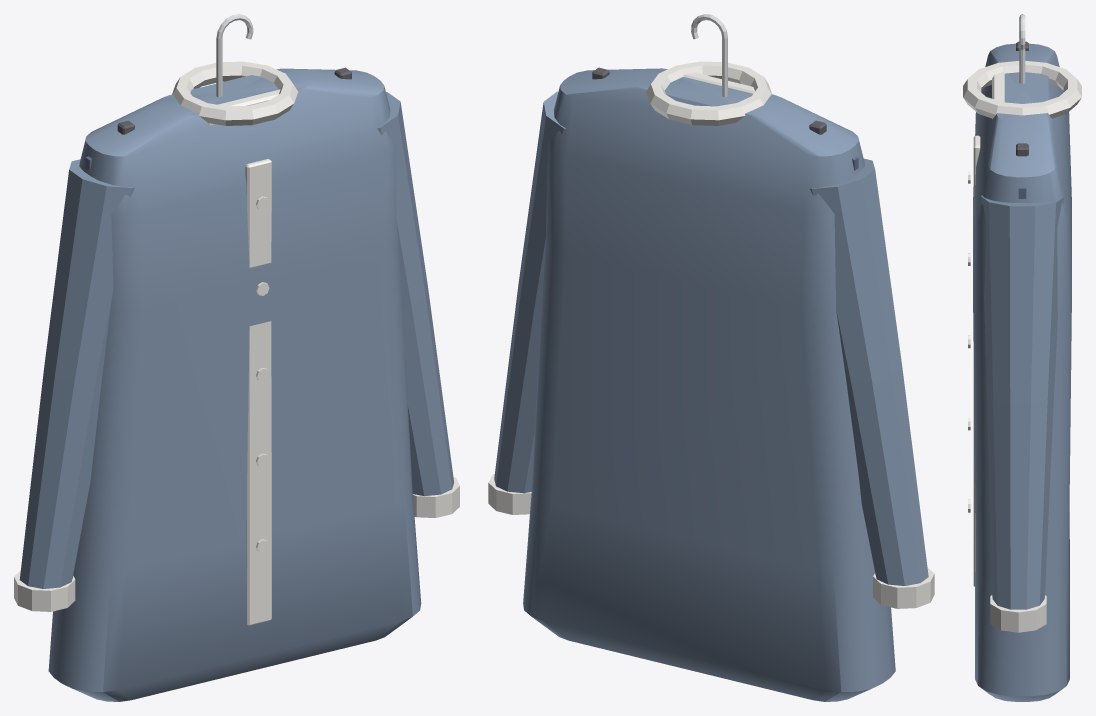
File: clothing-rail-and-wardrobe-blouse-on-hanger-63527161__35449.glb
3 renders of one model, left to right at view 1: azimuth 30°, elevation 25°; view 2: azimuth 150°, elevation 25°; view 3: azimuth 270°, elevation 25°, orthographic. The views are drawn at different scales.
Visible parts, largest first — view 1: blouse-on-hanger; view 2: blouse-on-hanger; view 3: blouse-on-hanger.
Part boxes in pixels (<box>): blouse-on-hanger: <box>14,14,459,701</box>; blouse-on-hanger: <box>488,14,934,701</box>; blouse-on-hanger: <box>963,14,1081,701</box>.
Size of the model in its own units: 0.565 by 0.7913 by 0.1384.
